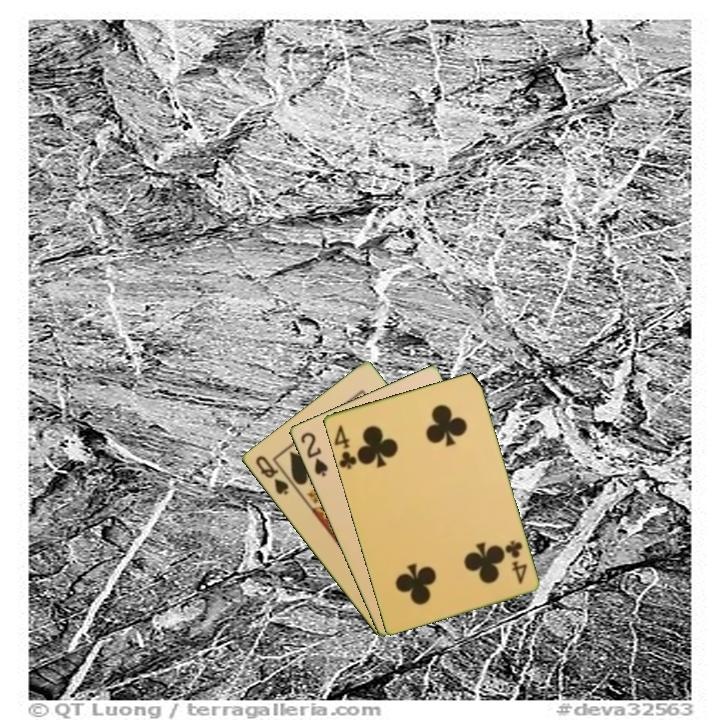2s: (296, 428, 331, 480)
4c: (330, 421, 359, 472), (501, 536, 530, 587)
Qs: (251, 452, 291, 498)
